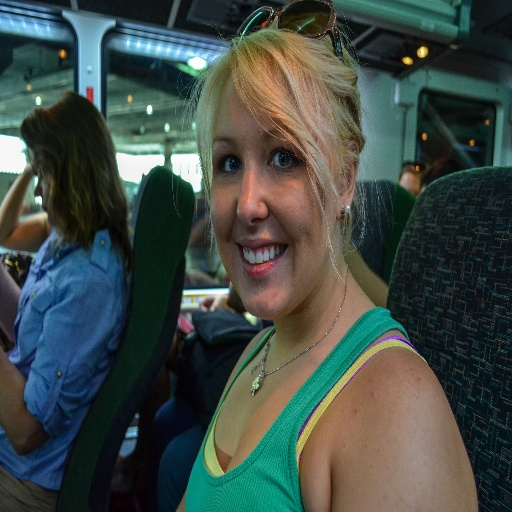hand: (197, 292, 236, 316)
